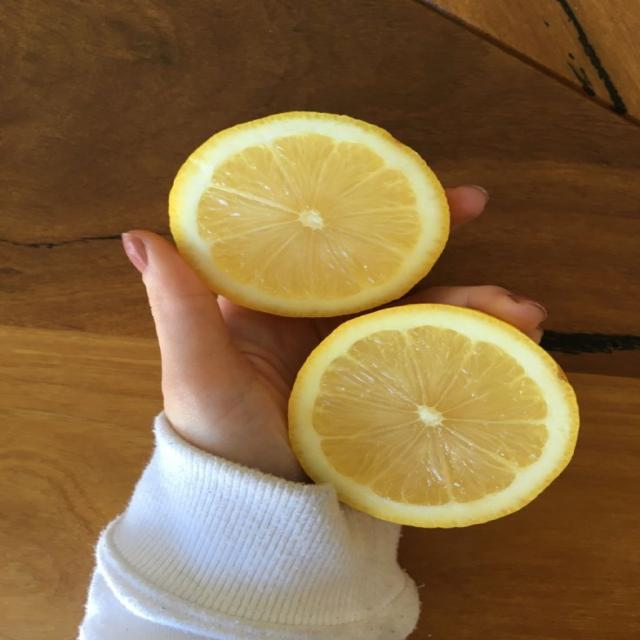lemon: (290, 305, 578, 527), (170, 113, 448, 316)
